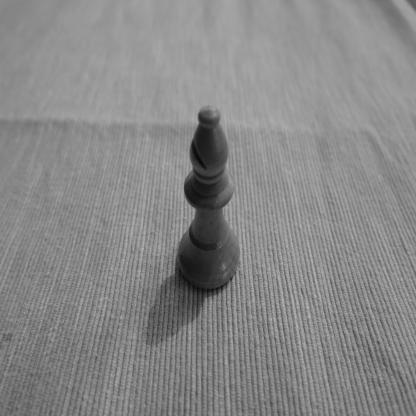white-bishop: (178, 104, 240, 293)
